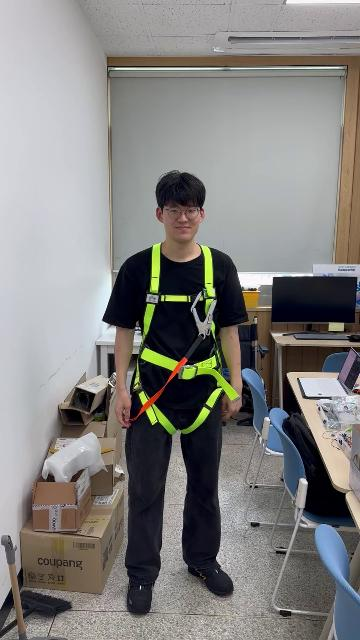helmet_not_worn: (154, 169, 210, 212)
shoe_worn: (187, 564, 233, 596), (126, 578, 153, 614)
vest_worn: (128, 247, 235, 431)
